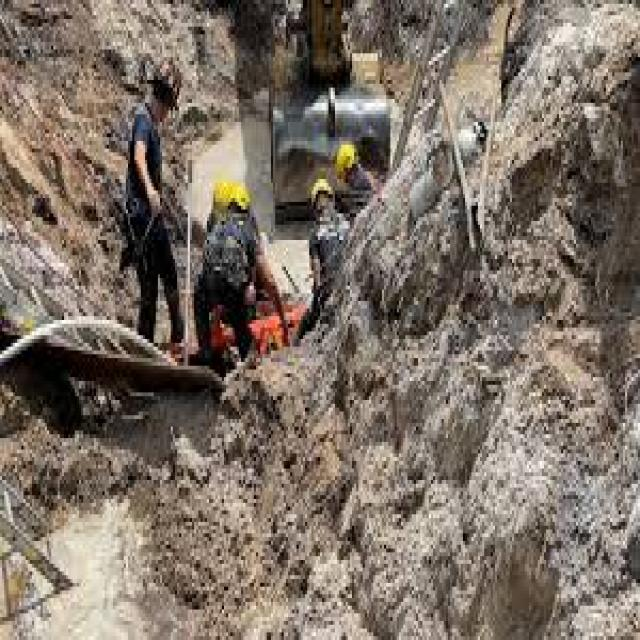Safety-Helmet: (145, 49, 186, 114), (330, 137, 362, 183), (211, 170, 236, 213), (307, 175, 337, 210), (228, 181, 255, 208)
